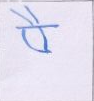au_matra: (16, 7, 54, 39)
